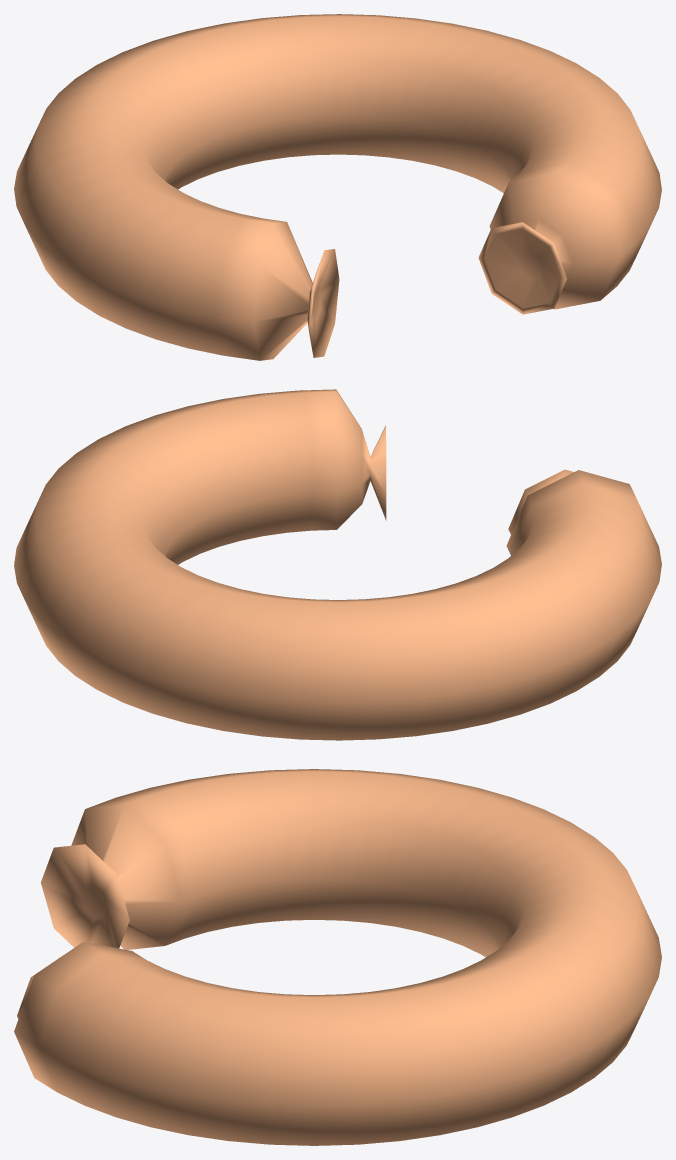
The model's file is SM_Fleischwurst.fbx.
The picture shows the model from 3 angles, top to bottom: view 1: azimuth 30°, elevation 25°; view 2: azimuth 150°, elevation 25°; view 3: azimuth 270°, elevation 25°; orthographic projection. The views are drawn at different scales.
Visible parts, largest first — view 1: Fleischwurst.001; view 2: Fleischwurst.001; view 3: Fleischwurst.001.
Boxes of the visible parts, <box> form: Fleischwurst.001: <box>14,14,661,360</box>; Fleischwurst.001: <box>14,389,661,740</box>; Fleischwurst.001: <box>14,769,661,1145</box>.
Size of the model in its own units: 97.56 by 22.51 by 90.89.
